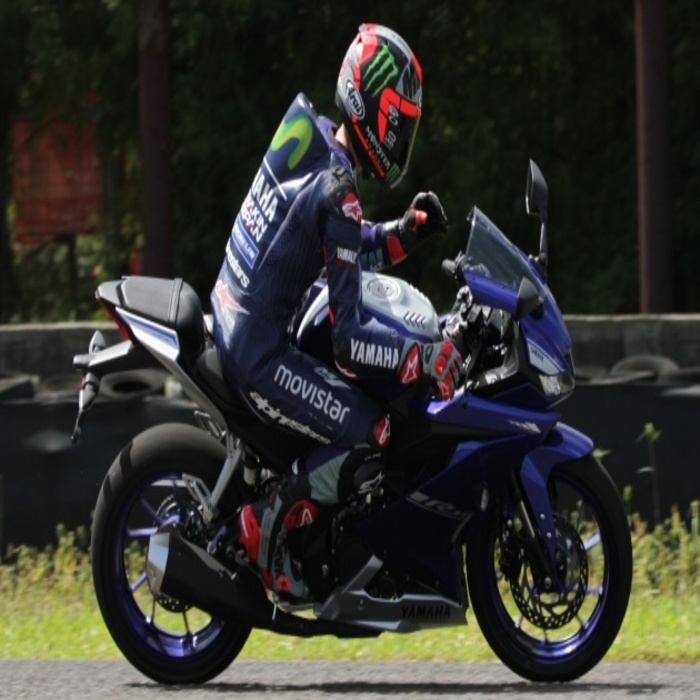h: (331, 21, 424, 199)
